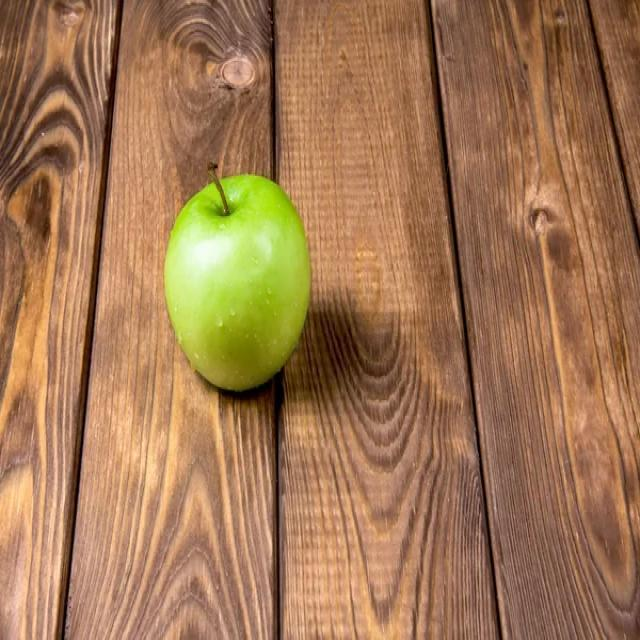Fresh Apple: (155, 157, 325, 400)
